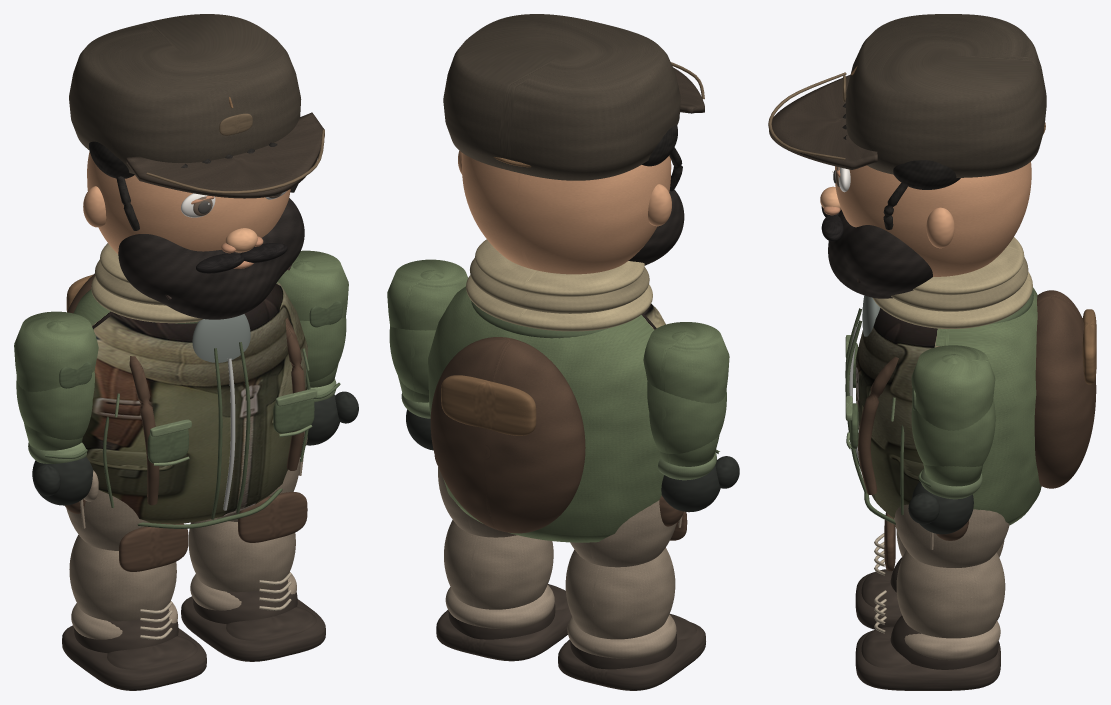
The model's file is afterday_bearded_survivor_v193_BEFORE.glb.
3 views of the same model, side by side, from view 1: azimuth 30°, elevation 25°; view 2: azimuth 150°, elevation 25°; view 3: azimuth 270°, elevation 25° (orthographic). The views are drawn at different scales.
Visible parts, largest first — view 1: premium continuous jacket body_000, cap sculpted crown_114, single unified sculpted black beard_091, sculpted adult head_072, structured baseball cap bill_115, soft fabric shin_045, slim work sleeve_026, soft fabric shin_059, smooth fabric sleeve shell_027, weathered thick sole_064, weathered thick sole_050, slim work sleeve_033 (+36 smaller); view 2: cap sculpted crown_114, premium continuous jacket body_000, compact rucksack_023, sculpted adult head_072, soft fabric shin_045, soft fabric shin_059, slim work sleeve_026, slim work sleeve_033, rucksack low profile flap_024, soft scarf fold_022, smooth fabric sleeve shell_027, soft scarf fold_020 (+19 smaller); view 3: cap sculpted crown_114, premium continuous jacket body_000, sculpted adult head_072, compact rucksack_023, soft fabric shin_059, slim work sleeve_033, single unified sculpted black beard_091, structured baseball cap bill_115, tailored sand cargo thigh_058, smooth fabric sleeve shell_034, weathered thick sole_064, soft scarf fold_020 (+18 smaller).
Part boxes in pixels (x1,y1,x2,y2): premium continuous jacket body_000: (73, 281, 307, 524); cap sculpted crown_114: (69, 14, 301, 173); single unified sculpted black beard_091: (118, 198, 304, 319); sculpted adult head_072: (87, 151, 290, 254); structured baseball cap bill_115: (126, 112, 324, 198); soft fabric shin_045: (69, 535, 176, 621); slim work sleeve_026: (14, 311, 98, 450); soft fabric shin_059: (188, 518, 295, 592); smooth fabric sleeve shell_027: (16, 320, 94, 439); weathered thick sole_064: (181, 596, 325, 661); weathered thick sole_050: (62, 625, 206, 690); slim work sleeve_033: (278, 250, 348, 387); cap sculpted crown_114: (443, 14, 680, 180); premium continuous jacket body_000: (428, 286, 665, 542); compact rucksack_023: (430, 337, 585, 533); sculpted adult head_072: (461, 153, 671, 274); soft fabric shin_045: (565, 547, 675, 639); soft fabric shin_059: (444, 520, 553, 609); slim work sleeve_026: (643, 322, 729, 466); slim work sleeve_033: (387, 259, 467, 402); rucksack low profile flap_024: (441, 375, 536, 435); soft scarf fold_022: (475, 239, 644, 296); smooth fabric sleeve shell_027: (647, 331, 726, 453); soft scarf fold_020: (466, 275, 652, 331); cap sculpted crown_114: (846, 14, 1046, 177); premium continuous jacket body_000: (855, 287, 1041, 525); sculpted adult head_072: (835, 162, 1031, 276); compact rucksack_023: (1034, 290, 1096, 488); soft fabric shin_059: (896, 550, 1005, 638); slim work sleeve_033: (911, 345, 995, 486); single unified sculpted black beard_091: (828, 210, 932, 298); structured baseball cap bill_115: (769, 74, 877, 169); tailored sand cargo thigh_058: (894, 504, 1009, 567); smooth fabric sleeve shell_034: (911, 354, 995, 466); weathered thick sole_064: (855, 630, 1000, 690); soft scarf fold_020: (873, 271, 1032, 328).
Bounding box in the file's own units: 1.69 × 2.99 × 1.49.
Materials: 30 (23 with a texture image).
